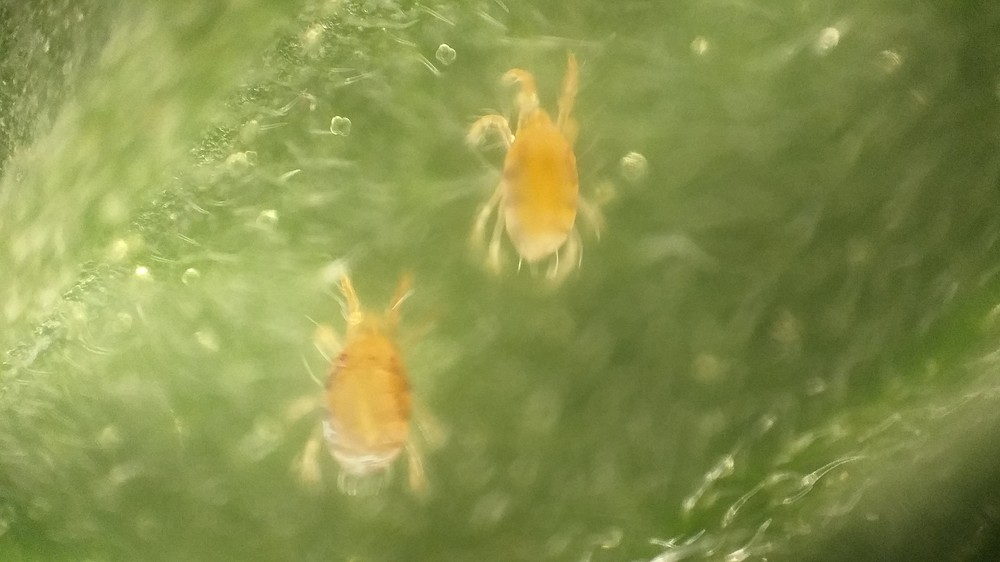Aracnido Rojo: (267, 254, 466, 496), (450, 54, 613, 291)
